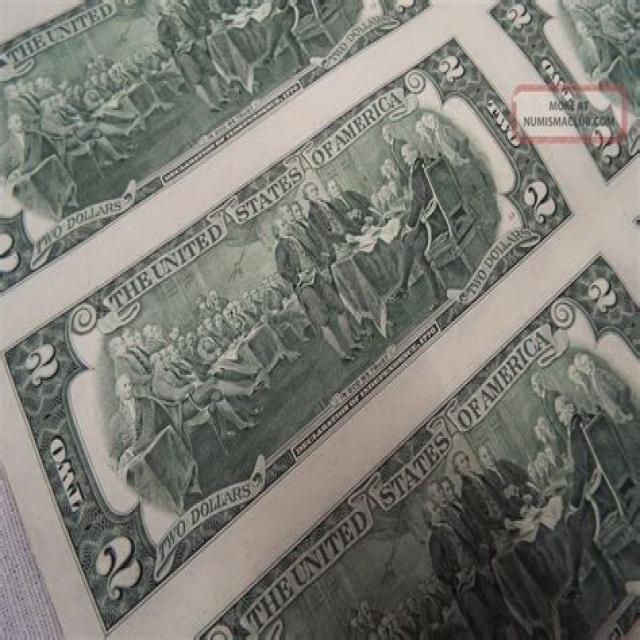Two: (0, 15, 593, 639)
